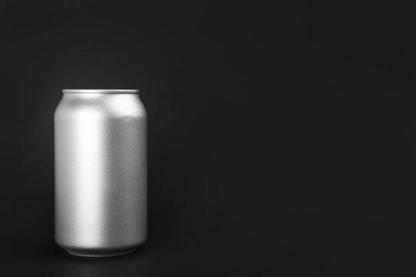Can: (52, 86, 150, 260)
